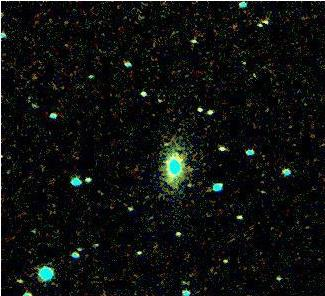star: (145, 126, 175, 156)
